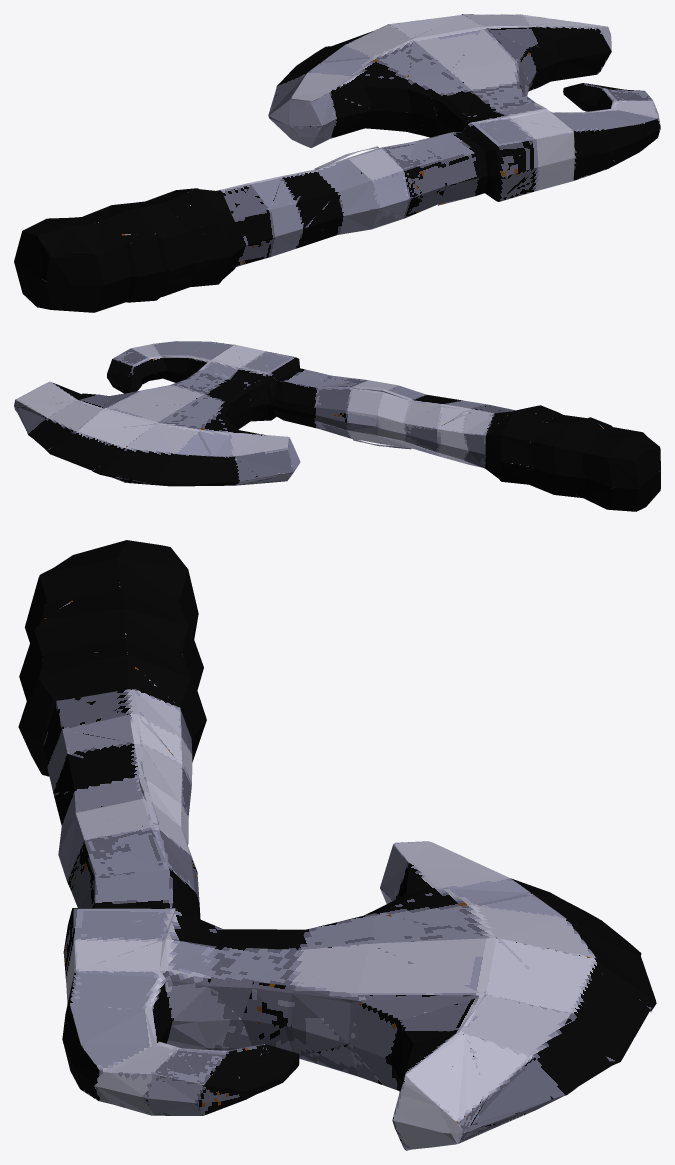
The picture shows the model from 3 angles, top to bottom: view 1: azimuth 30°, elevation 25°; view 2: azimuth 150°, elevation 25°; view 3: azimuth 270°, elevation 25°; orthographic projection. The views are drawn at different scales.
Parts seen in each view (by area): view 1: OBJ002; view 2: OBJ002; view 3: OBJ002.
Part boxes in pixels (left/top/right/bottom): OBJ002: left=14, top=14, right=660, bottom=312; OBJ002: left=14, top=341, right=660, bottom=511; OBJ002: left=18, top=540, right=656, bottom=1150.
Size of the model in its own units: 0.3805 by 0.0468 by 0.1897.
1 material, 1 textured.
